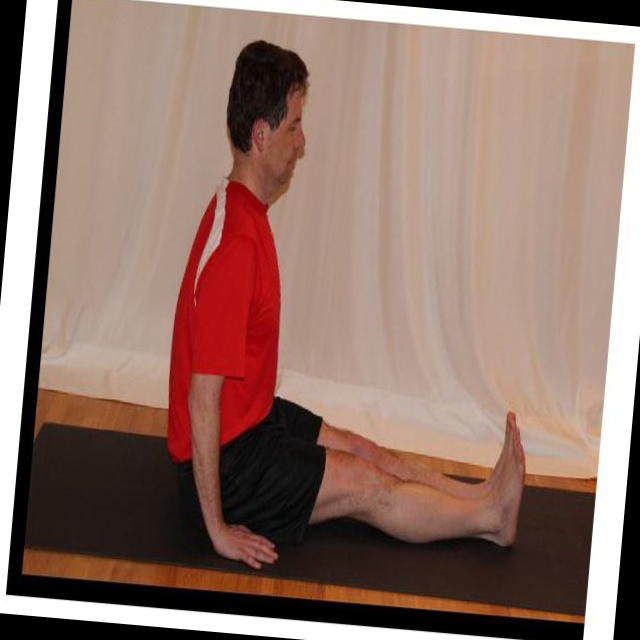Staff_Pose: (168, 40, 527, 570)
